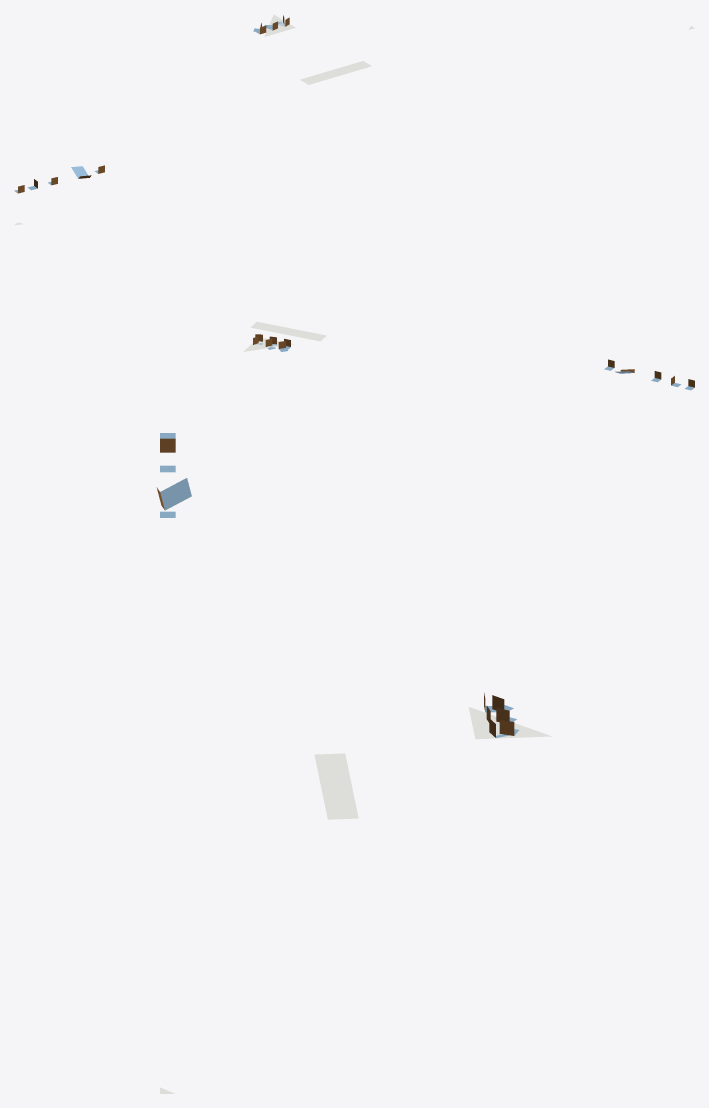
File: hierarchy.glb
3 views of the same model, one above another, from view 1: azimuth 30°, elevation 25°; view 2: azimuth 150°, elevation 25°; view 3: azimuth 270°, elevation 25° (orthographic). The views are drawn at different scales.
Visible parts, largest first — view 1: Edificio; view 2: Edificio; view 3: Edificio.
Part boxes in pixels (x1,y1,x2,y2): Edificio: [300, 61, 371, 84]; Edificio: [251, 322, 326, 341]; Edificio: [314, 753, 358, 819].
Bounding box in the file's own units: 101 × 4.43 × 25.57.
3 materials, 1 textured.
